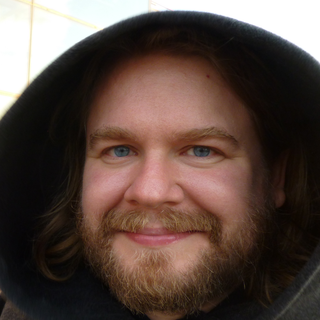eye: (173, 141, 227, 165), (97, 141, 143, 166)
